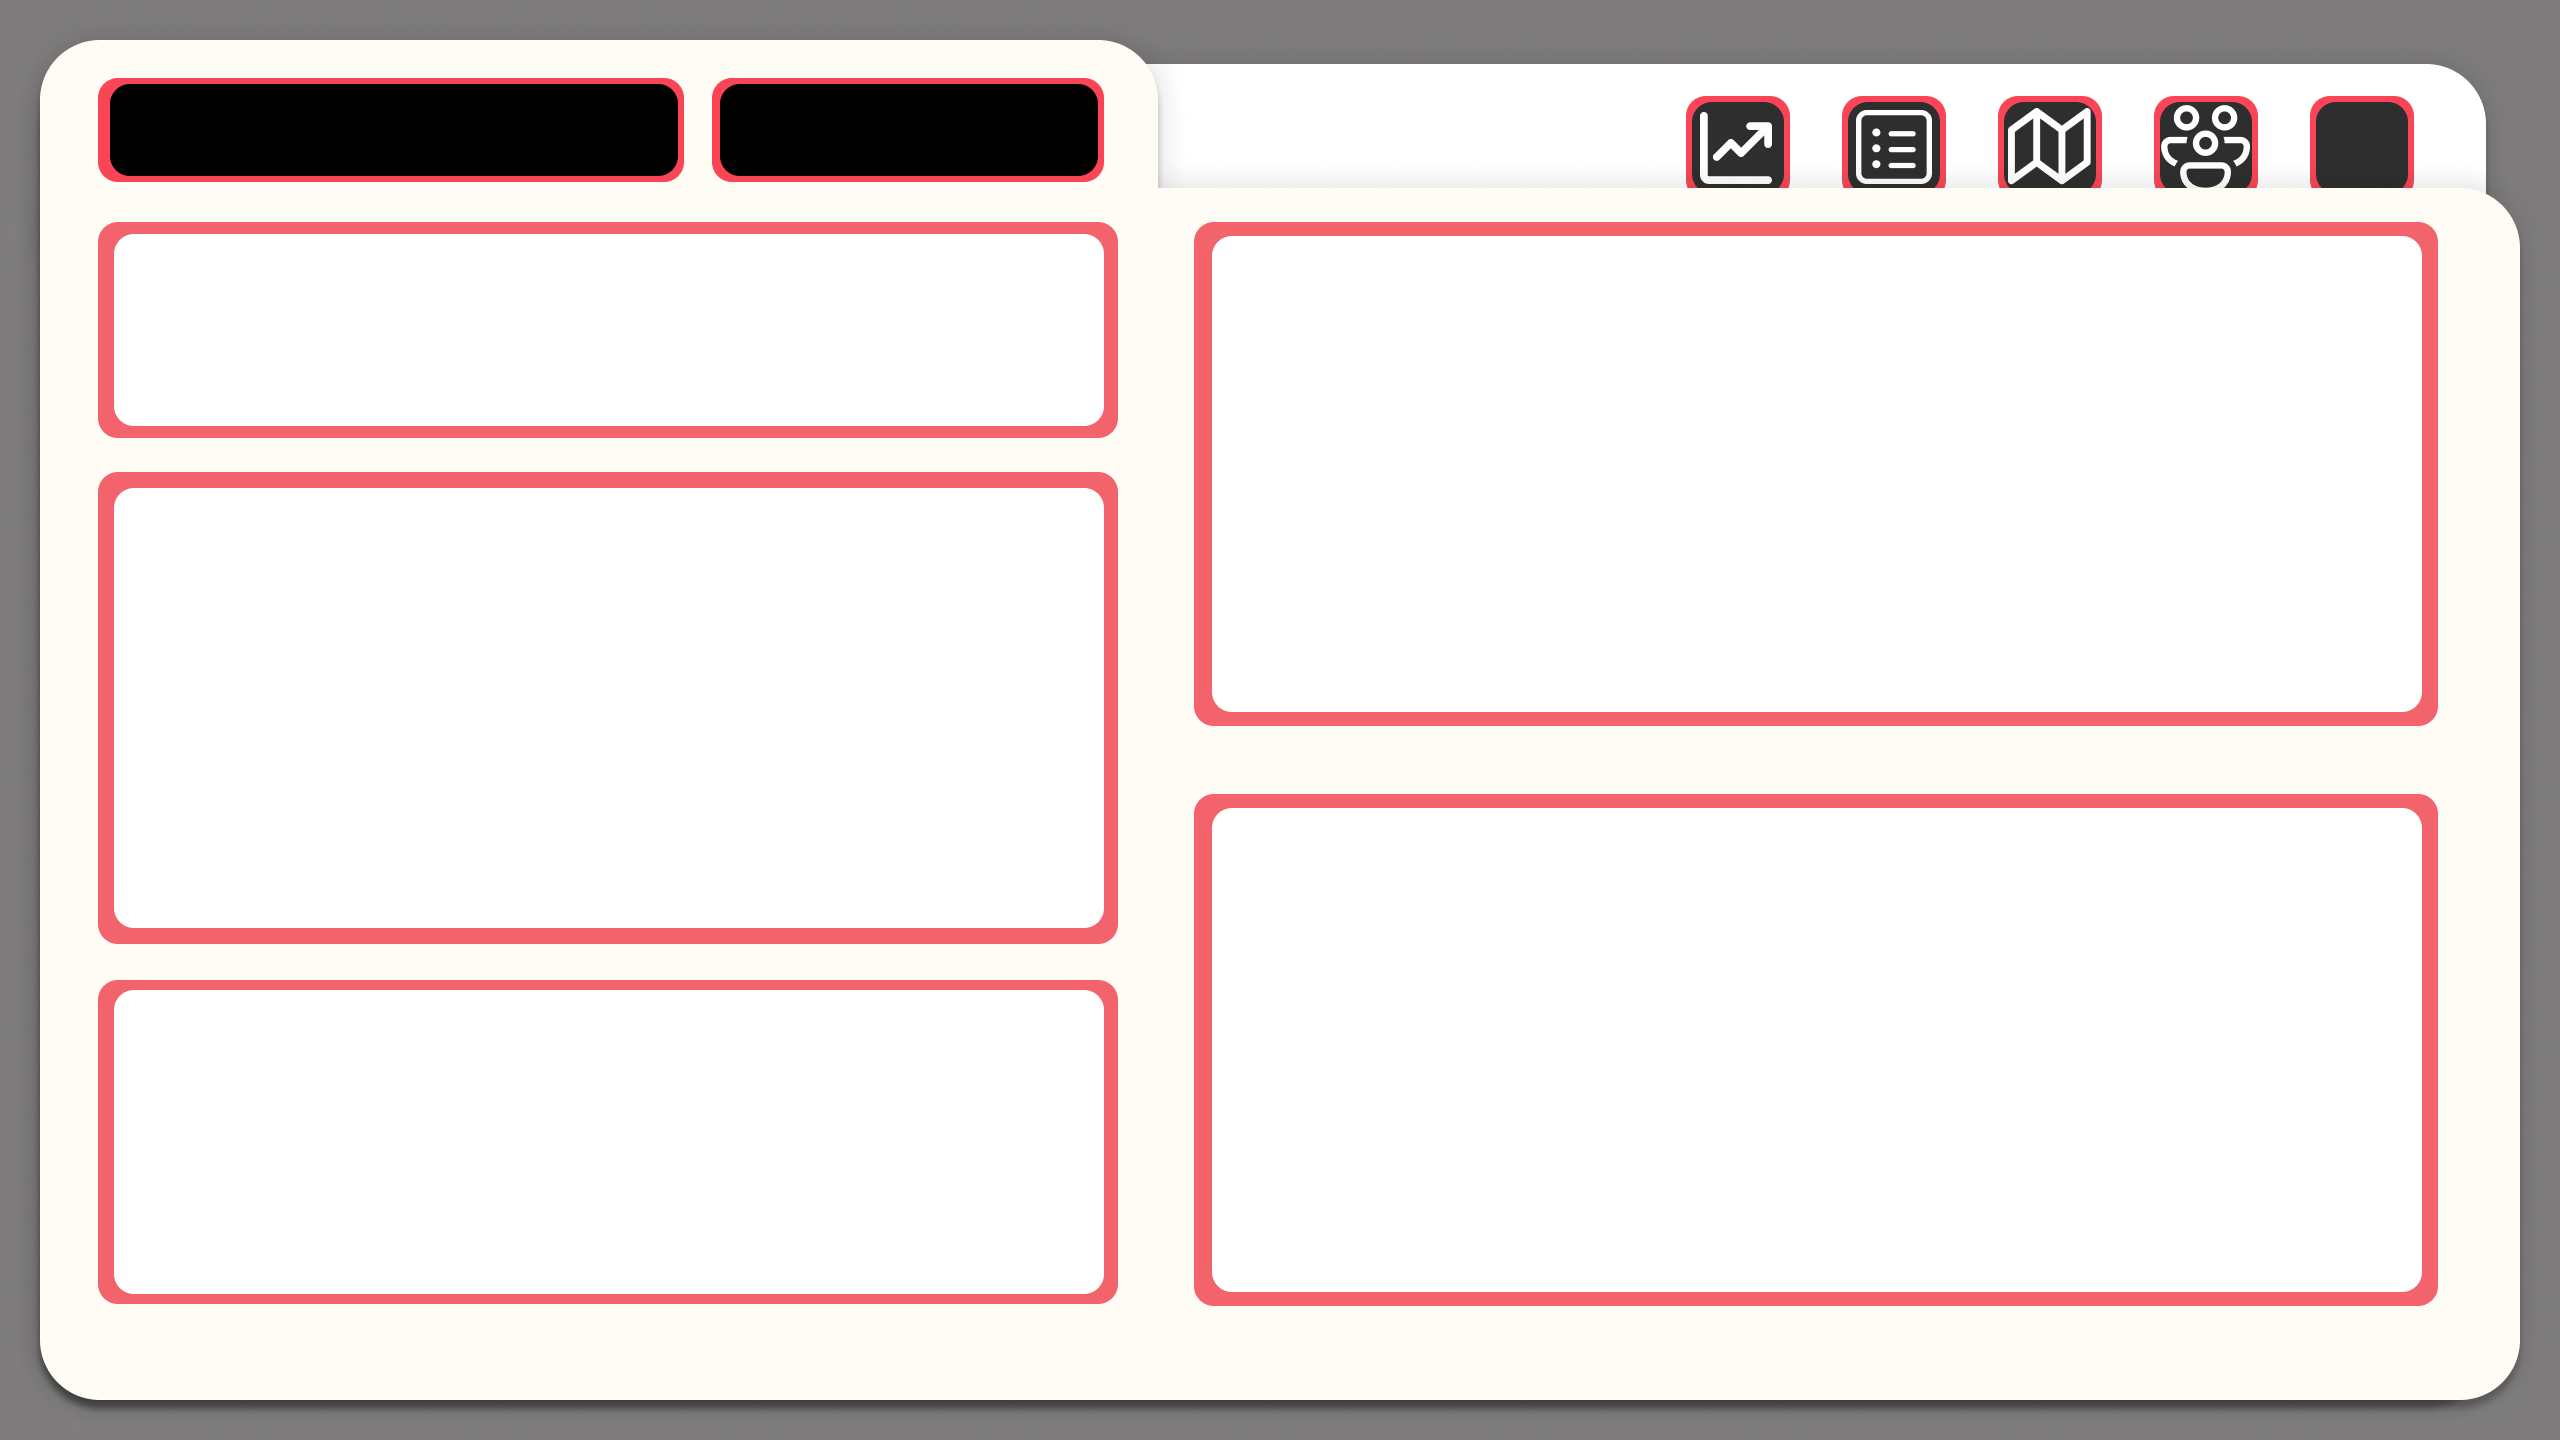

What the dashboard file says about the page in this screenshot:
{"tool":"powerbi","page":{"name":"Home","canvas":[1280,720],"ordinal":0},"visuals":[{"type":"gauge","fields":{"Y":["Measure.WinRateConCero"]},"box":[143.2,248.8,408.7,223.8],"z":0},{"type":"textbox","box":[361.4,43,196.4,54.6],"z":1000},{"type":"columnChart","title":"AGENTS","fields":{"Category":["Dim-Agentes.Agent"],"Y":["Medida.WinsConCero","Medida.LostsConCero"]},"box":[605.3,117.5,607,242.1],"z":2000},{"type":"columnChart","title":"MAPS","fields":{"Category":["Dim-Mapas.Map"],"Y":["Medida.WinsConCero","Medida.LostsConCero"]},"box":[604.2,403.2,607.7,245.2],"z":4000},{"type":"image","box":[123.2,39.5,206.8,52.3],"z":5000},{"type":"image","box":[38.3,25.6,96.4,76.7],"z":6000},{"type":"textbox","box":[57,246,184.9,114],"z":7000},{"type":"card","title":"MATCHES","fields":{"Values":["Medidas.Games"]},"box":[56.2,116.4,170.6,97],"z":8000},{"type":"card","title":"WIN","fields":{"Values":["Medida.WinsConCero"]},"box":[226.2,116.7,161.9,97],"z":9000},{"type":"card","title":"LOSE","fields":{"Values":["Medida.LostsConCero"]},"box":[388.1,116.7,164.3,97],"z":10000},{"type":"actionButton","title":"Botón Partidas","box":[53.4,116.2,499.6,96.4],"z":11000},{"type":"textbox","title":"AVG Per Match","box":[55.8,497.1,287,59.3],"z":12000},{"type":"card","title":"KDA  -  Kills/Deaths/Assis  - ACS","fields":{"Values":["Medida.AVG Per Match"]},"box":[56.4,543.9,495.3,104.9],"z":13000},{"type":"actionButton","box":[846.4,51.2,46.4,44],"z":14000},{"type":"actionButton","box":[1159.3,52.8,41.7,41.7],"z":15000},{"type":"actionButton","box":[925,51.2,46.4,44],"z":16000},{"type":"actionButton","box":[1079.8,51.2,46.4,44],"z":17000},{"type":"actionButton","box":[1002.4,51.2,46.4,44],"z":18000},{"type":"actionButton","box":[55.3,493.1,498.7,154.6],"z":19000},{"type":"actionButton","box":[604.8,117.9,607.1,44],"z":20000},{"type":"actionButton","box":[604.8,403.6,607.1,44],"z":21000},{"type":"actionButton","box":[357.8,38.4,191.9,52.1],"z":22000},{"type":"actionButton","box":[47.6,39.5,294,51.1],"z":23000}]}

Visuals, with their boxes in screenshot pixels (x1, y1, x2, y2), scaled from the page's 1280x720 canvas onto the 2560x1440 screenshot:
gauge - Measure.WinRateConCero: box=[286, 498, 1104, 945]
textbox: box=[723, 86, 1116, 195]
"AGENTS" columnChart: box=[1211, 235, 2425, 719]
"MAPS" columnChart: box=[1208, 806, 2424, 1297]
image: box=[246, 79, 660, 184]
image: box=[77, 51, 269, 205]
textbox: box=[114, 492, 484, 720]
"MATCHES" card: box=[112, 233, 454, 427]
"WIN" card: box=[452, 233, 776, 427]
"LOSE" card: box=[776, 233, 1105, 427]
"Botón Partidas" actionButton: box=[107, 232, 1106, 425]
"AVG Per Match" textbox: box=[112, 994, 686, 1113]
"KDA  -  Kills/Deaths/Assis  - ACS" card: box=[113, 1088, 1103, 1298]
actionButton: box=[1693, 102, 1786, 190]
actionButton: box=[2319, 106, 2402, 189]
actionButton: box=[1850, 102, 1943, 190]
actionButton: box=[2160, 102, 2252, 190]
actionButton: box=[2005, 102, 2098, 190]
actionButton: box=[111, 986, 1108, 1295]
actionButton: box=[1210, 236, 2424, 324]
actionButton: box=[1210, 807, 2424, 895]
actionButton: box=[716, 77, 1099, 181]
actionButton: box=[95, 79, 683, 181]
